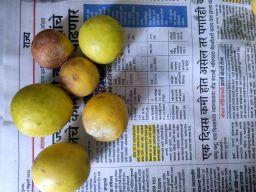lemon: (9, 82, 75, 137), (30, 142, 92, 192), (81, 92, 130, 143), (78, 14, 126, 65), (30, 28, 75, 70), (58, 56, 101, 97)
